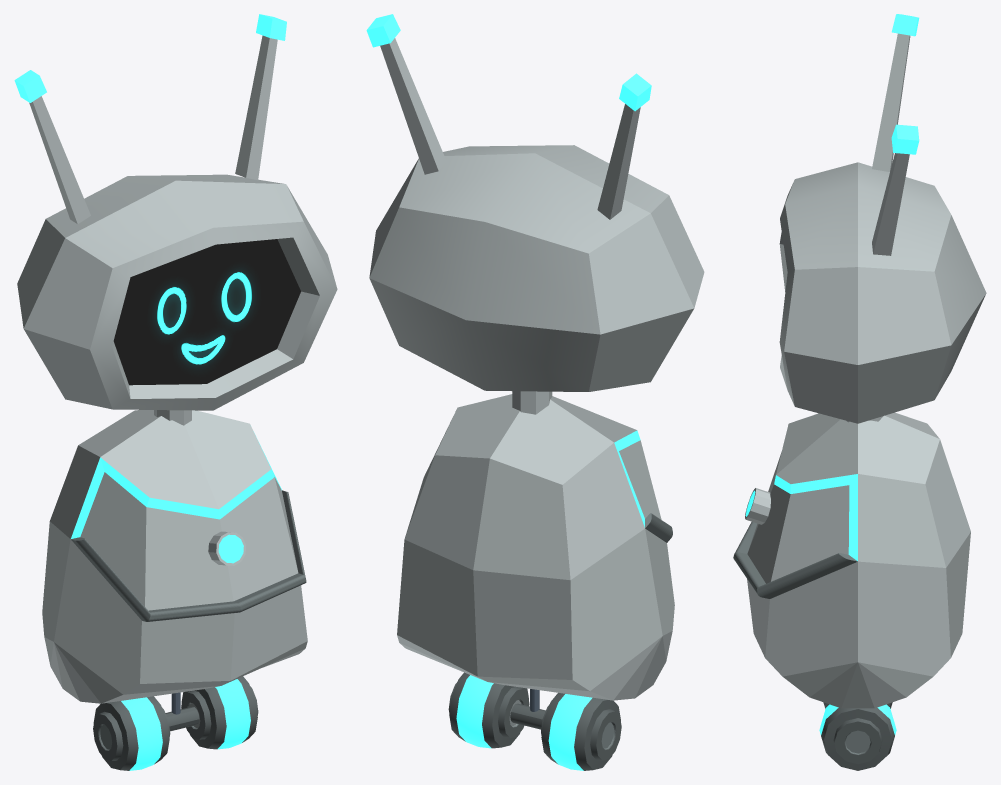
File: Robot.fbx
The picture shows the model from 3 angles, left to right: view 1: azimuth 30°, elevation 25°; view 2: azimuth 150°, elevation 25°; view 3: azimuth 270°, elevation 25°; orthographic projection. The views are drawn at different scales.
Parts seen in each view (by area): view 1: Robot; view 2: Robot; view 3: Robot.
Part boxes in pixels (x1,y1,x2,y2): Robot: (14,14,337,770); Robot: (366,14,704,770); Robot: (733,14,986,770).
Bounding box in the file's own units: 0.992 × 2.16 × 0.7357.
